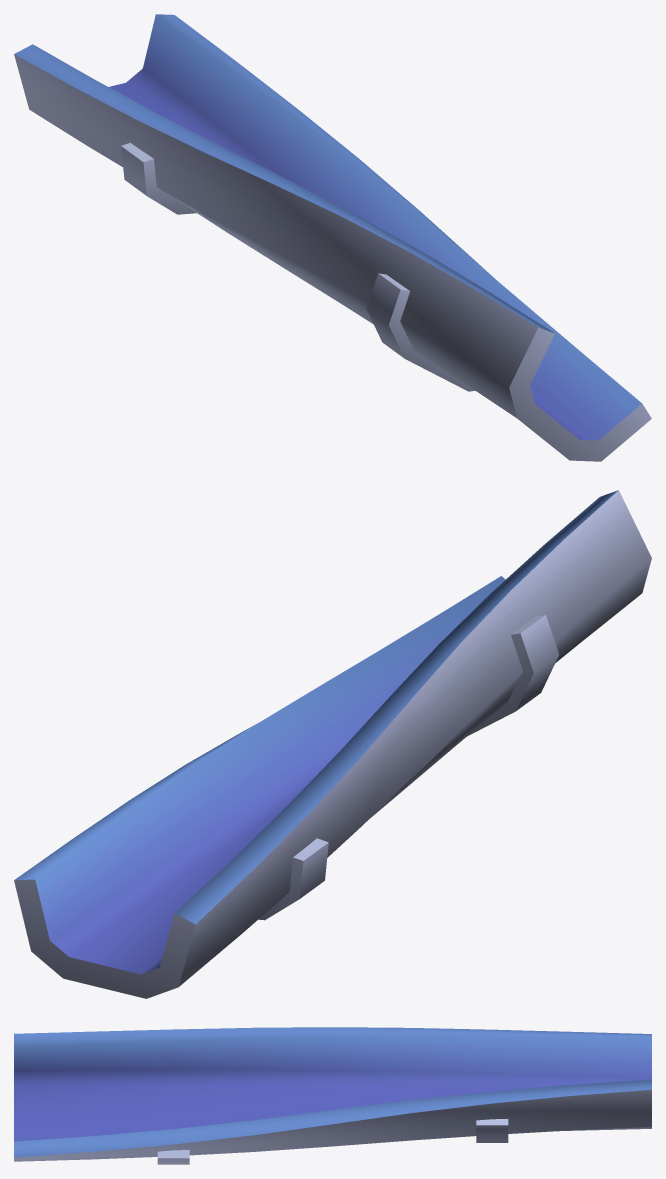
The model's file is kenney-coaster-coaster-flume-straight-skew-left.glb.
The picture shows the model from 3 angles, top to bottom: view 1: azimuth 30°, elevation 25°; view 2: azimuth 150°, elevation 25°; view 3: azimuth 270°, elevation 25°; orthographic projection. The views are drawn at different scales.
Parts seen in each view (by area): view 1: coaster-flume-straight-skew-left; view 2: coaster-flume-straight-skew-left; view 3: coaster-flume-straight-skew-left.
Part boxes in pixels (x1,y1,x2,y2): coaster-flume-straight-skew-left: [14, 14, 651, 461]; coaster-flume-straight-skew-left: [14, 490, 651, 998]; coaster-flume-straight-skew-left: [14, 1027, 651, 1164].
Size of the model in its own units: 0.9707 by 0.7373 by 4.
Materials: 1 (1 with a texture image).
